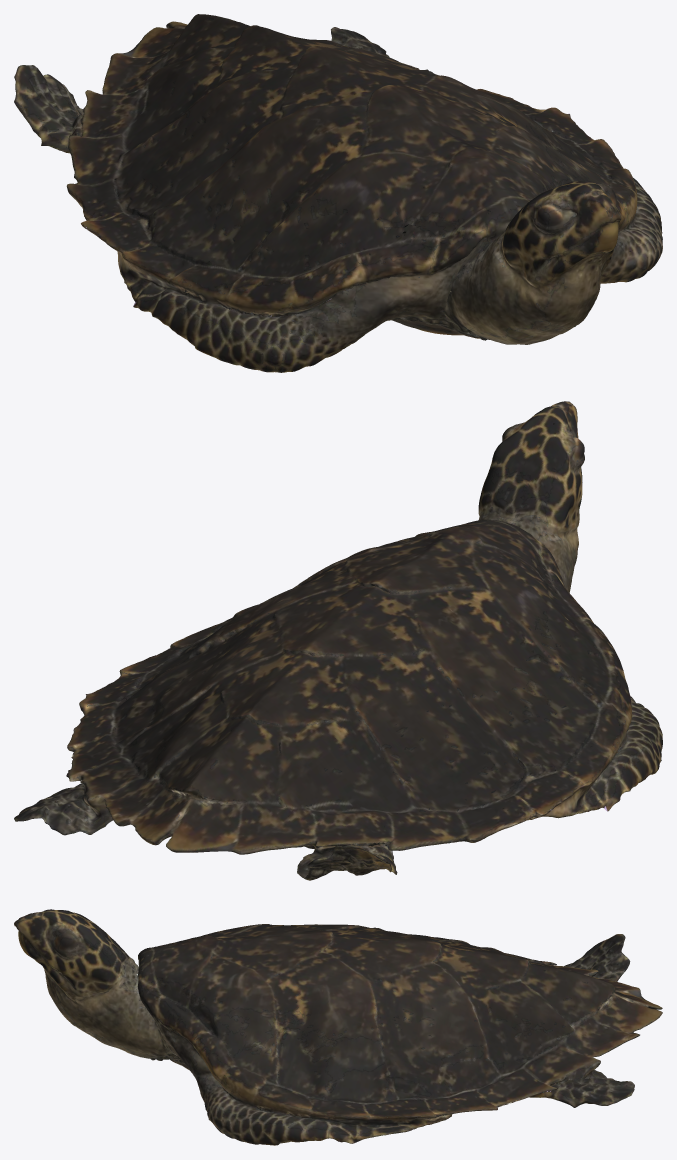
The model's file is sf-hawksbill-sea-turtle-b7294b.glb.
The picture shows the model from 3 angles, top to bottom: view 1: azimuth 30°, elevation 25°; view 2: azimuth 150°, elevation 25°; view 3: azimuth 270°, elevation 25°; orthographic projection. The views are drawn at different scales.
Visible parts, largest first — view 1: Object_2; view 2: Object_2; view 3: Object_2.
Boxes of the visible parts, bbox=[...] form: Object_2: bbox=[14, 14, 662, 372]; Object_2: bbox=[14, 401, 662, 880]; Object_2: bbox=[14, 909, 662, 1145].
Bounding box in the file's own units: 291 × 123 × 445.
Materials: 3 (3 with a texture image).
